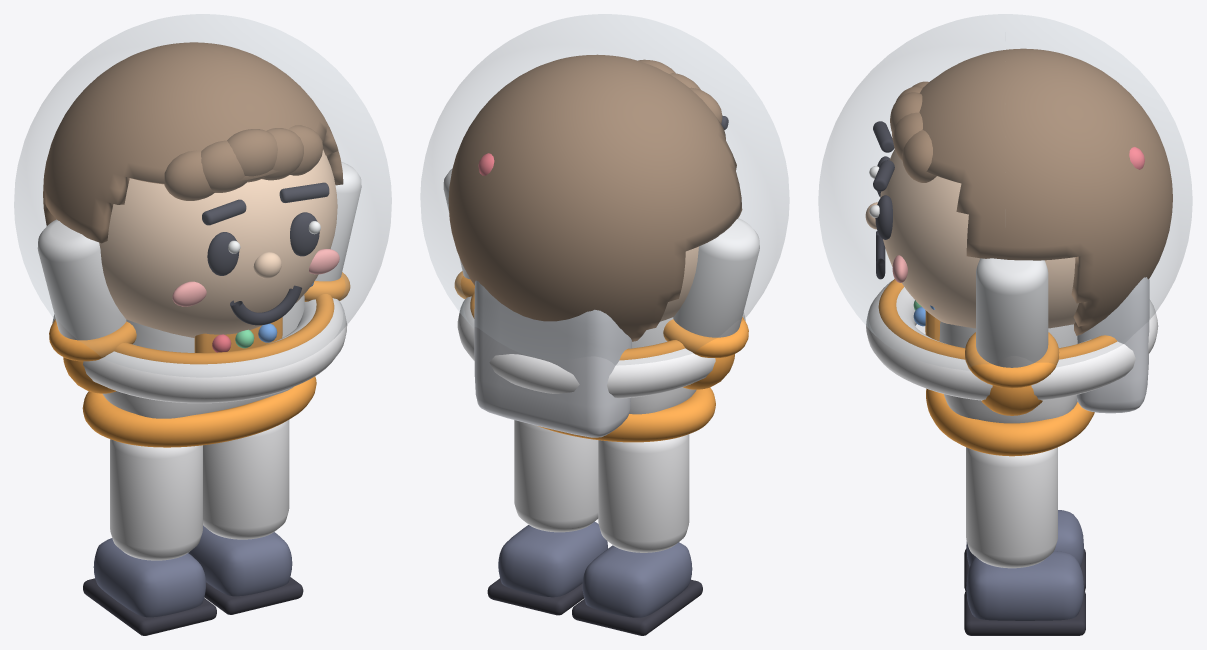
The model's file is paul.glb.
The picture shows the model from 3 angles, left to right: view 1: azimuth 30°, elevation 25°; view 2: azimuth 150°, elevation 25°; view 3: azimuth 270°, elevation 25°; orthographic projection. The views are drawn at different scales.
Visible parts, largest first — view 1: Bubble, Head, Body, ArmL, ArmR; view 2: Bubble, Head, Body, ArmL, ArmR; view 3: Bubble, Head, Body, ArmR.
Part boxes in pixels (<box>): Bubble: <box>14,14,391,376</box>; Head: <box>43,42,347,403</box>; Body: <box>82,282,316,635</box>; ArmL: <box>37,219,136,393</box>; ArmR: <box>304,162,361,301</box>; Bubble: <box>420,14,789,364</box>; Head: <box>448,54,745,398</box>; Body: <box>474,280,715,635</box>; ArmL: <box>663,218,759,389</box>; ArmR: <box>443,168,474,298</box>; Bubble: <box>818,14,1192,369</box>; Head: <box>865,48,1172,400</box>; Body: <box>913,277,1149,635</box>; ArmR: <box>965,258,1059,415</box>.
Bounding box in the file's own units: 1.14 × 1.9 × 1.14.
